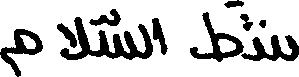X: (190, 0, 242, 66), (254, 15, 298, 65), (0, 24, 41, 76), (100, 4, 134, 64), (59, 12, 89, 64), (153, 13, 166, 59), (139, 19, 151, 63)
